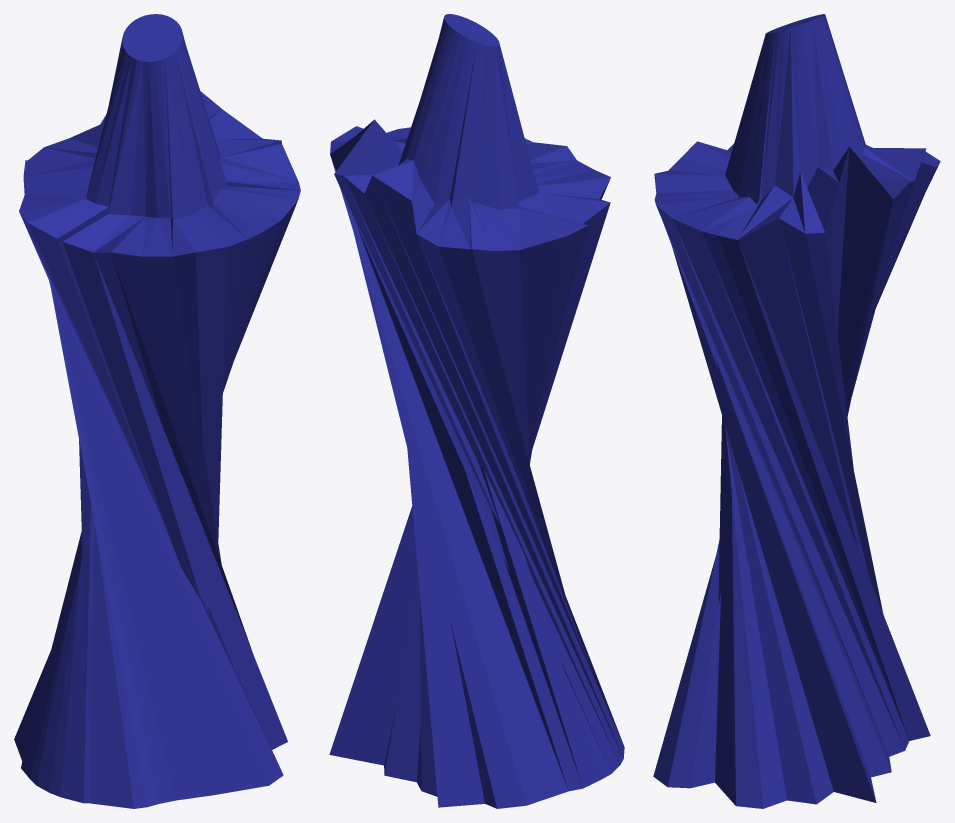
The model's file is escultura_base.obj.
3 renders of one model, left to right at view 1: azimuth 30°, elevation 25°; view 2: azimuth 150°, elevation 25°; view 3: azimuth 270°, elevation 25°, orthographic. The views are drawn at different scales.
Visible parts, largest first — view 1: escultura_base_Cylinder; view 2: escultura_base_Cylinder; view 3: escultura_base_Cylinder.
Boxes of the visible parts, <box> form: escultura_base_Cylinder: <box>14,14,300,808</box>; escultura_base_Cylinder: <box>329,14,624,808</box>; escultura_base_Cylinder: <box>653,14,940,808</box>.
Size of the model in its own units: 0.5028 by 1.33 by 0.4669.
